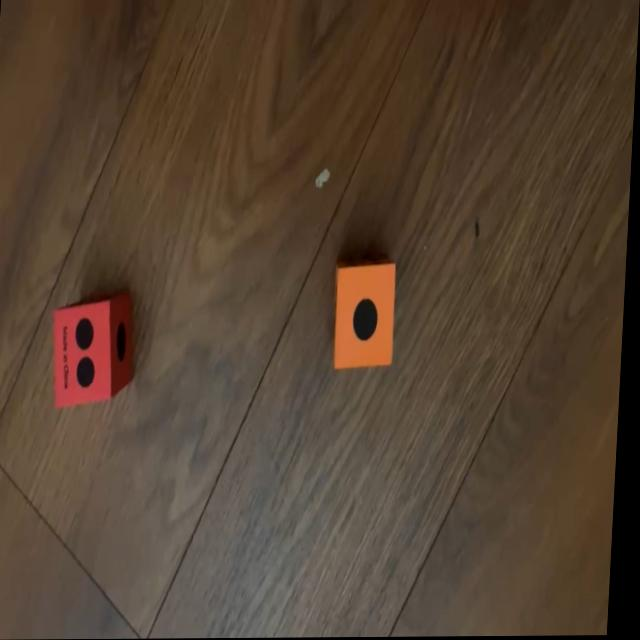cube: (52, 294, 141, 406)
